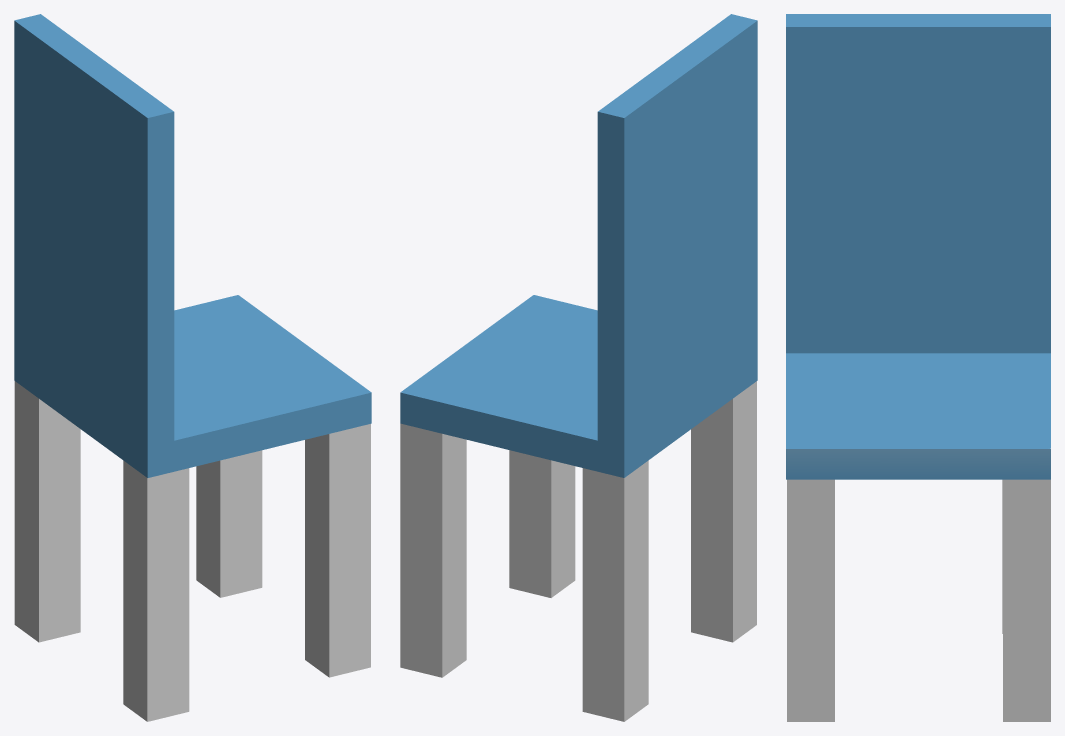
Rendered from chair.gltf.
3 views of the same model, side by side, from view 1: azimuth 30°, elevation 25°; view 2: azimuth 150°, elevation 25°; view 3: azimuth 270°, elevation 25° (orthographic).
Parts seen in each view (by area): view 1: Cube, Cube.001, Cube.002, Cube.003, Cube.004; view 2: Cube, Cube.003, Cube.004, Cube.001, Cube.002; view 3: Cube, Cube.002, Cube.004.
Part boxes in pixels (x1,y1,x2,y2): Cube: [14, 14, 371, 477]; Cube.001: [123, 460, 189, 721]; Cube.002: [305, 424, 370, 677]; Cube.003: [14, 381, 80, 642]; Cube.004: [196, 450, 262, 597]; Cube: [400, 14, 757, 477]; Cube.003: [582, 460, 648, 721]; Cube.004: [400, 423, 466, 677]; Cube.001: [691, 381, 756, 642]; Cube.002: [509, 450, 575, 597]; Cube: [786, 14, 1050, 479]; Cube.002: [787, 479, 834, 721]; Cube.004: [1003, 479, 1050, 721].
Size of the model in its own units: 1.78 by 4.58 by 1.83.
Materials: 1 (1 with a texture image).
